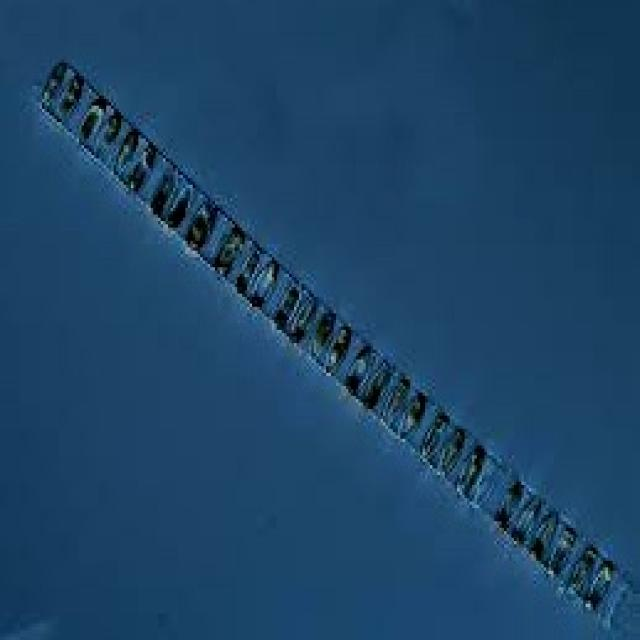Skeletonema: (30, 46, 640, 636)
